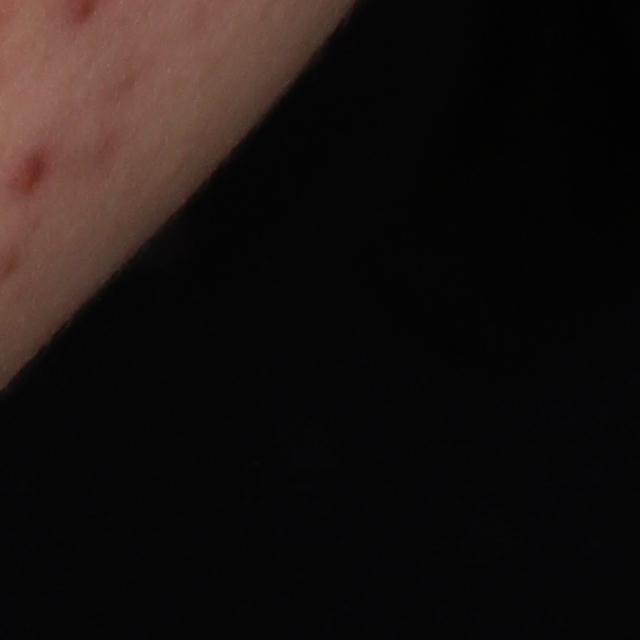papule: (6, 148, 48, 199)
